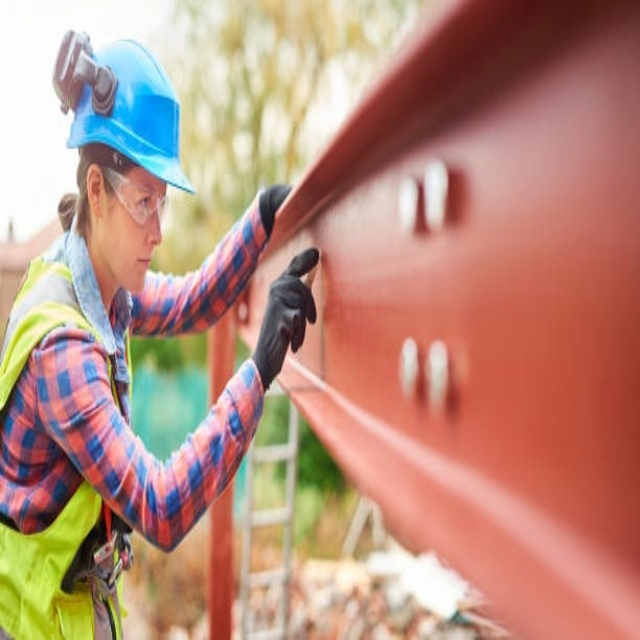Gafas: (102, 164, 169, 230)
Guantes: (252, 249, 320, 391), (258, 183, 293, 240)
Sin_mascara: (128, 240, 159, 295)
